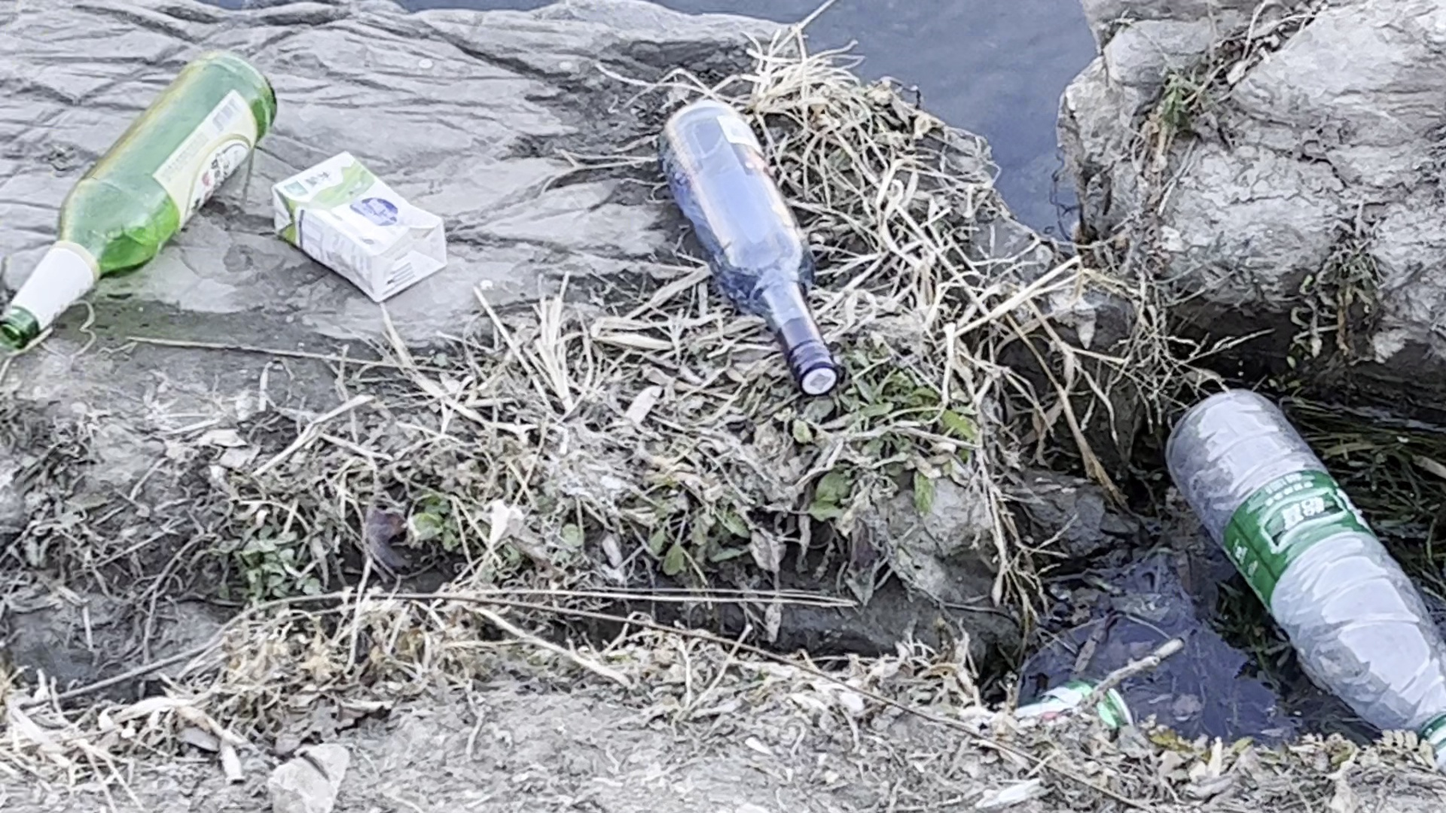floater: (1157, 386, 1442, 749), (11, 53, 265, 382), (639, 100, 841, 397), (276, 143, 452, 283)
